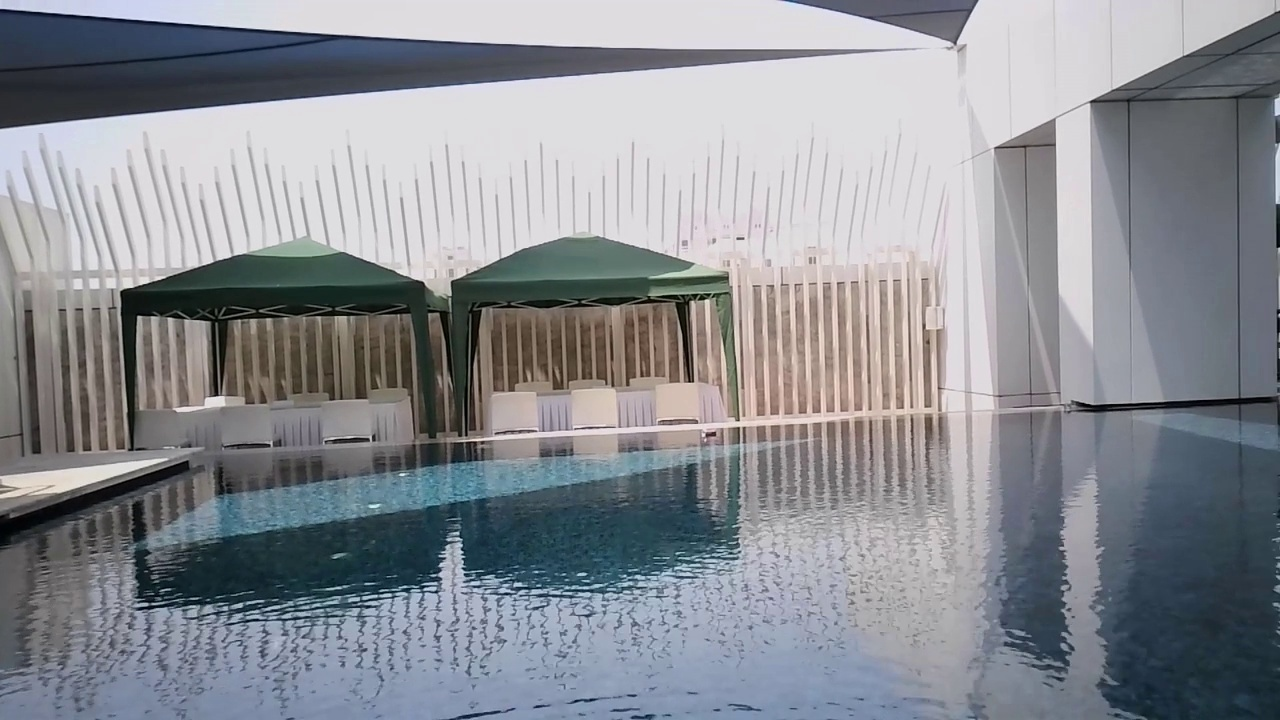debris: (696, 426, 717, 441), (1061, 400, 1075, 416)
